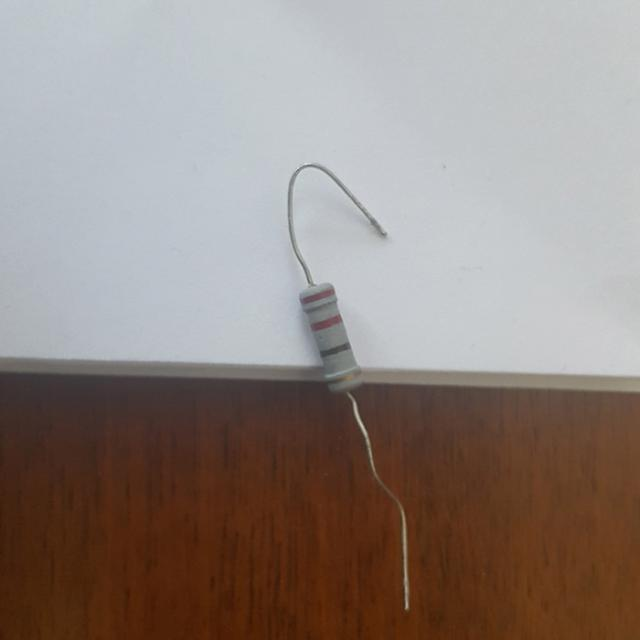brown: (319, 341, 350, 356)
gold: (325, 368, 363, 384)
red: (301, 288, 334, 304), (311, 314, 341, 330)
resistor: (283, 264, 378, 408)
